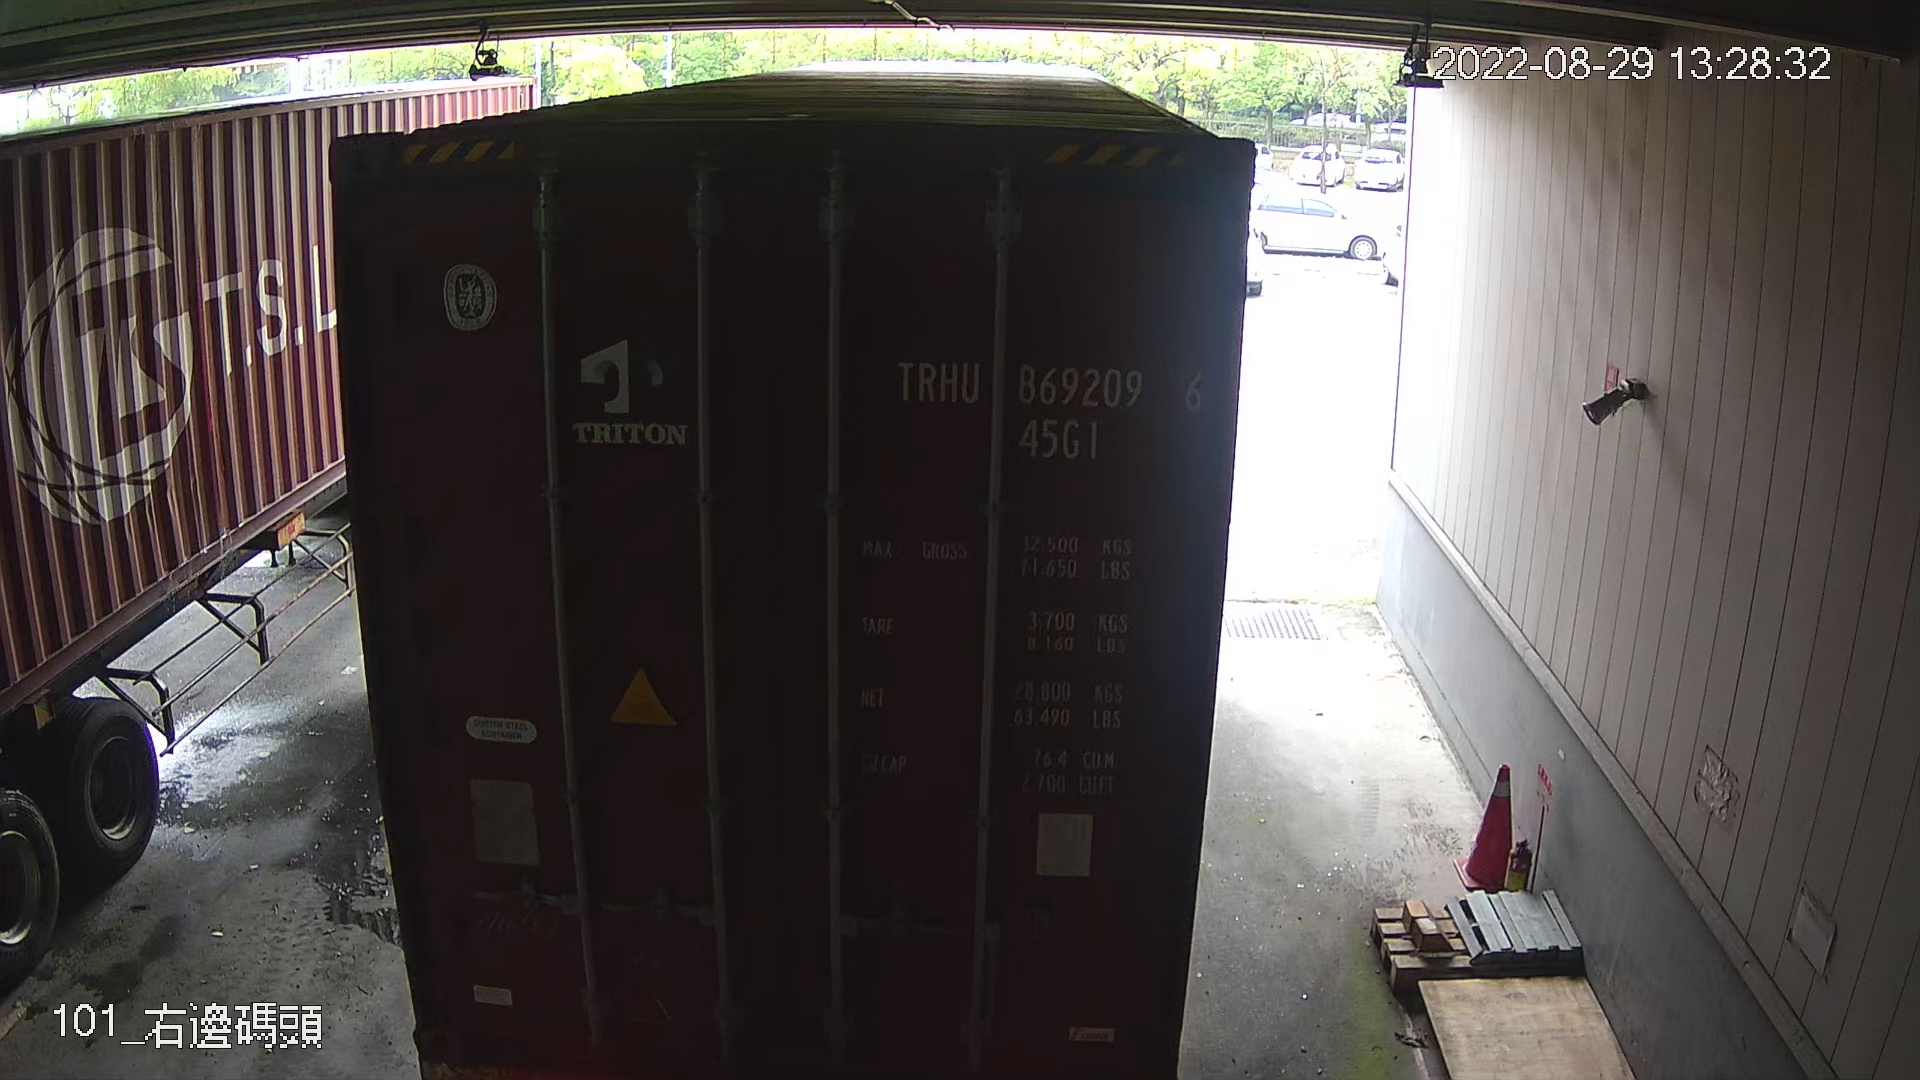container: (880, 338, 1216, 477)
